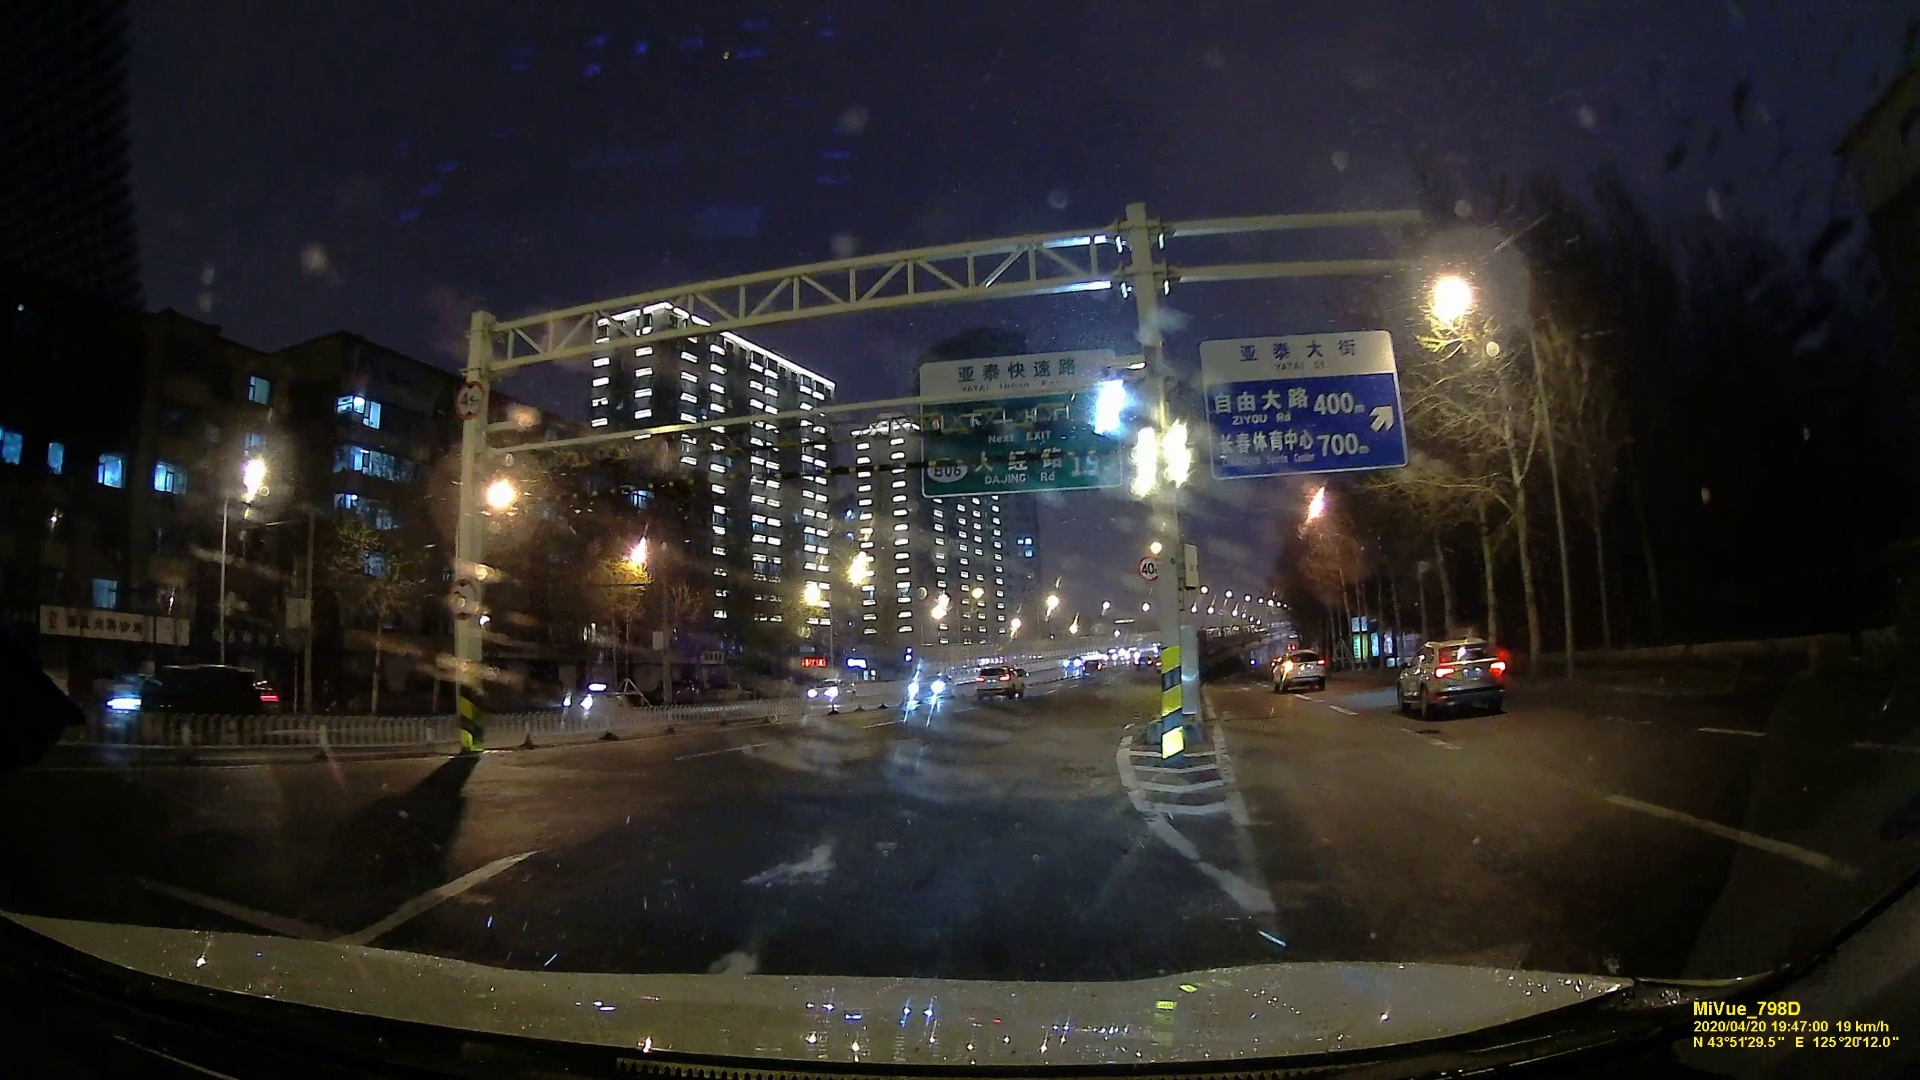minibus: (94, 667, 280, 732)
traffic_sign: (1200, 332, 1407, 472), (922, 360, 1114, 489)
vehicle: (1396, 638, 1513, 717), (1273, 649, 1332, 690), (975, 666, 1025, 700), (806, 676, 855, 703), (909, 673, 955, 699)
